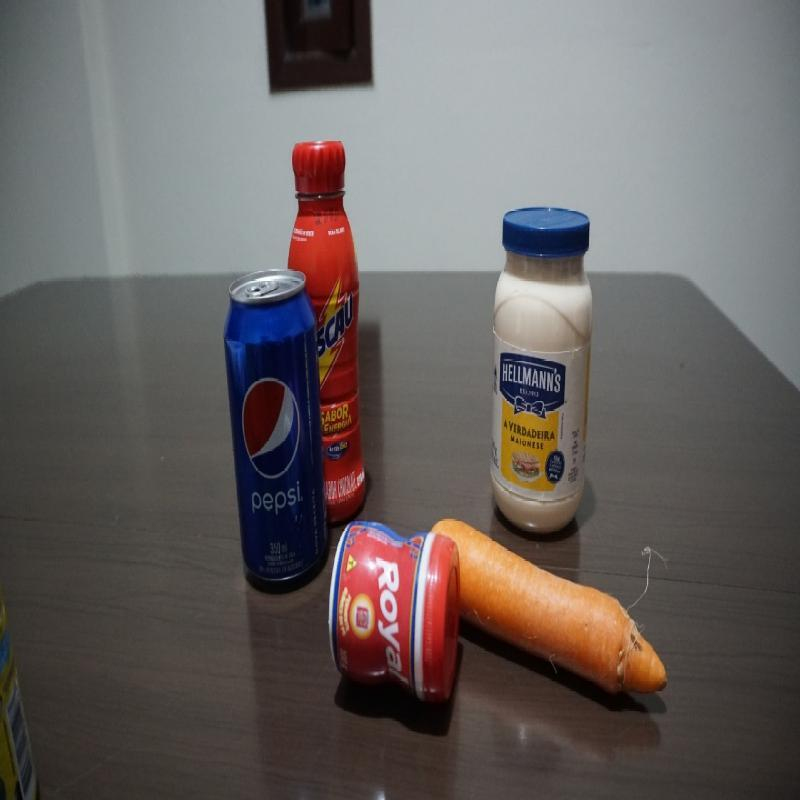Carrot: (440, 508, 674, 704)
Chocolate Milk: (289, 130, 370, 512)
Mayonnaise: (491, 204, 591, 530)
Soda can: (220, 273, 329, 588)
Yeast: (335, 518, 464, 714)
